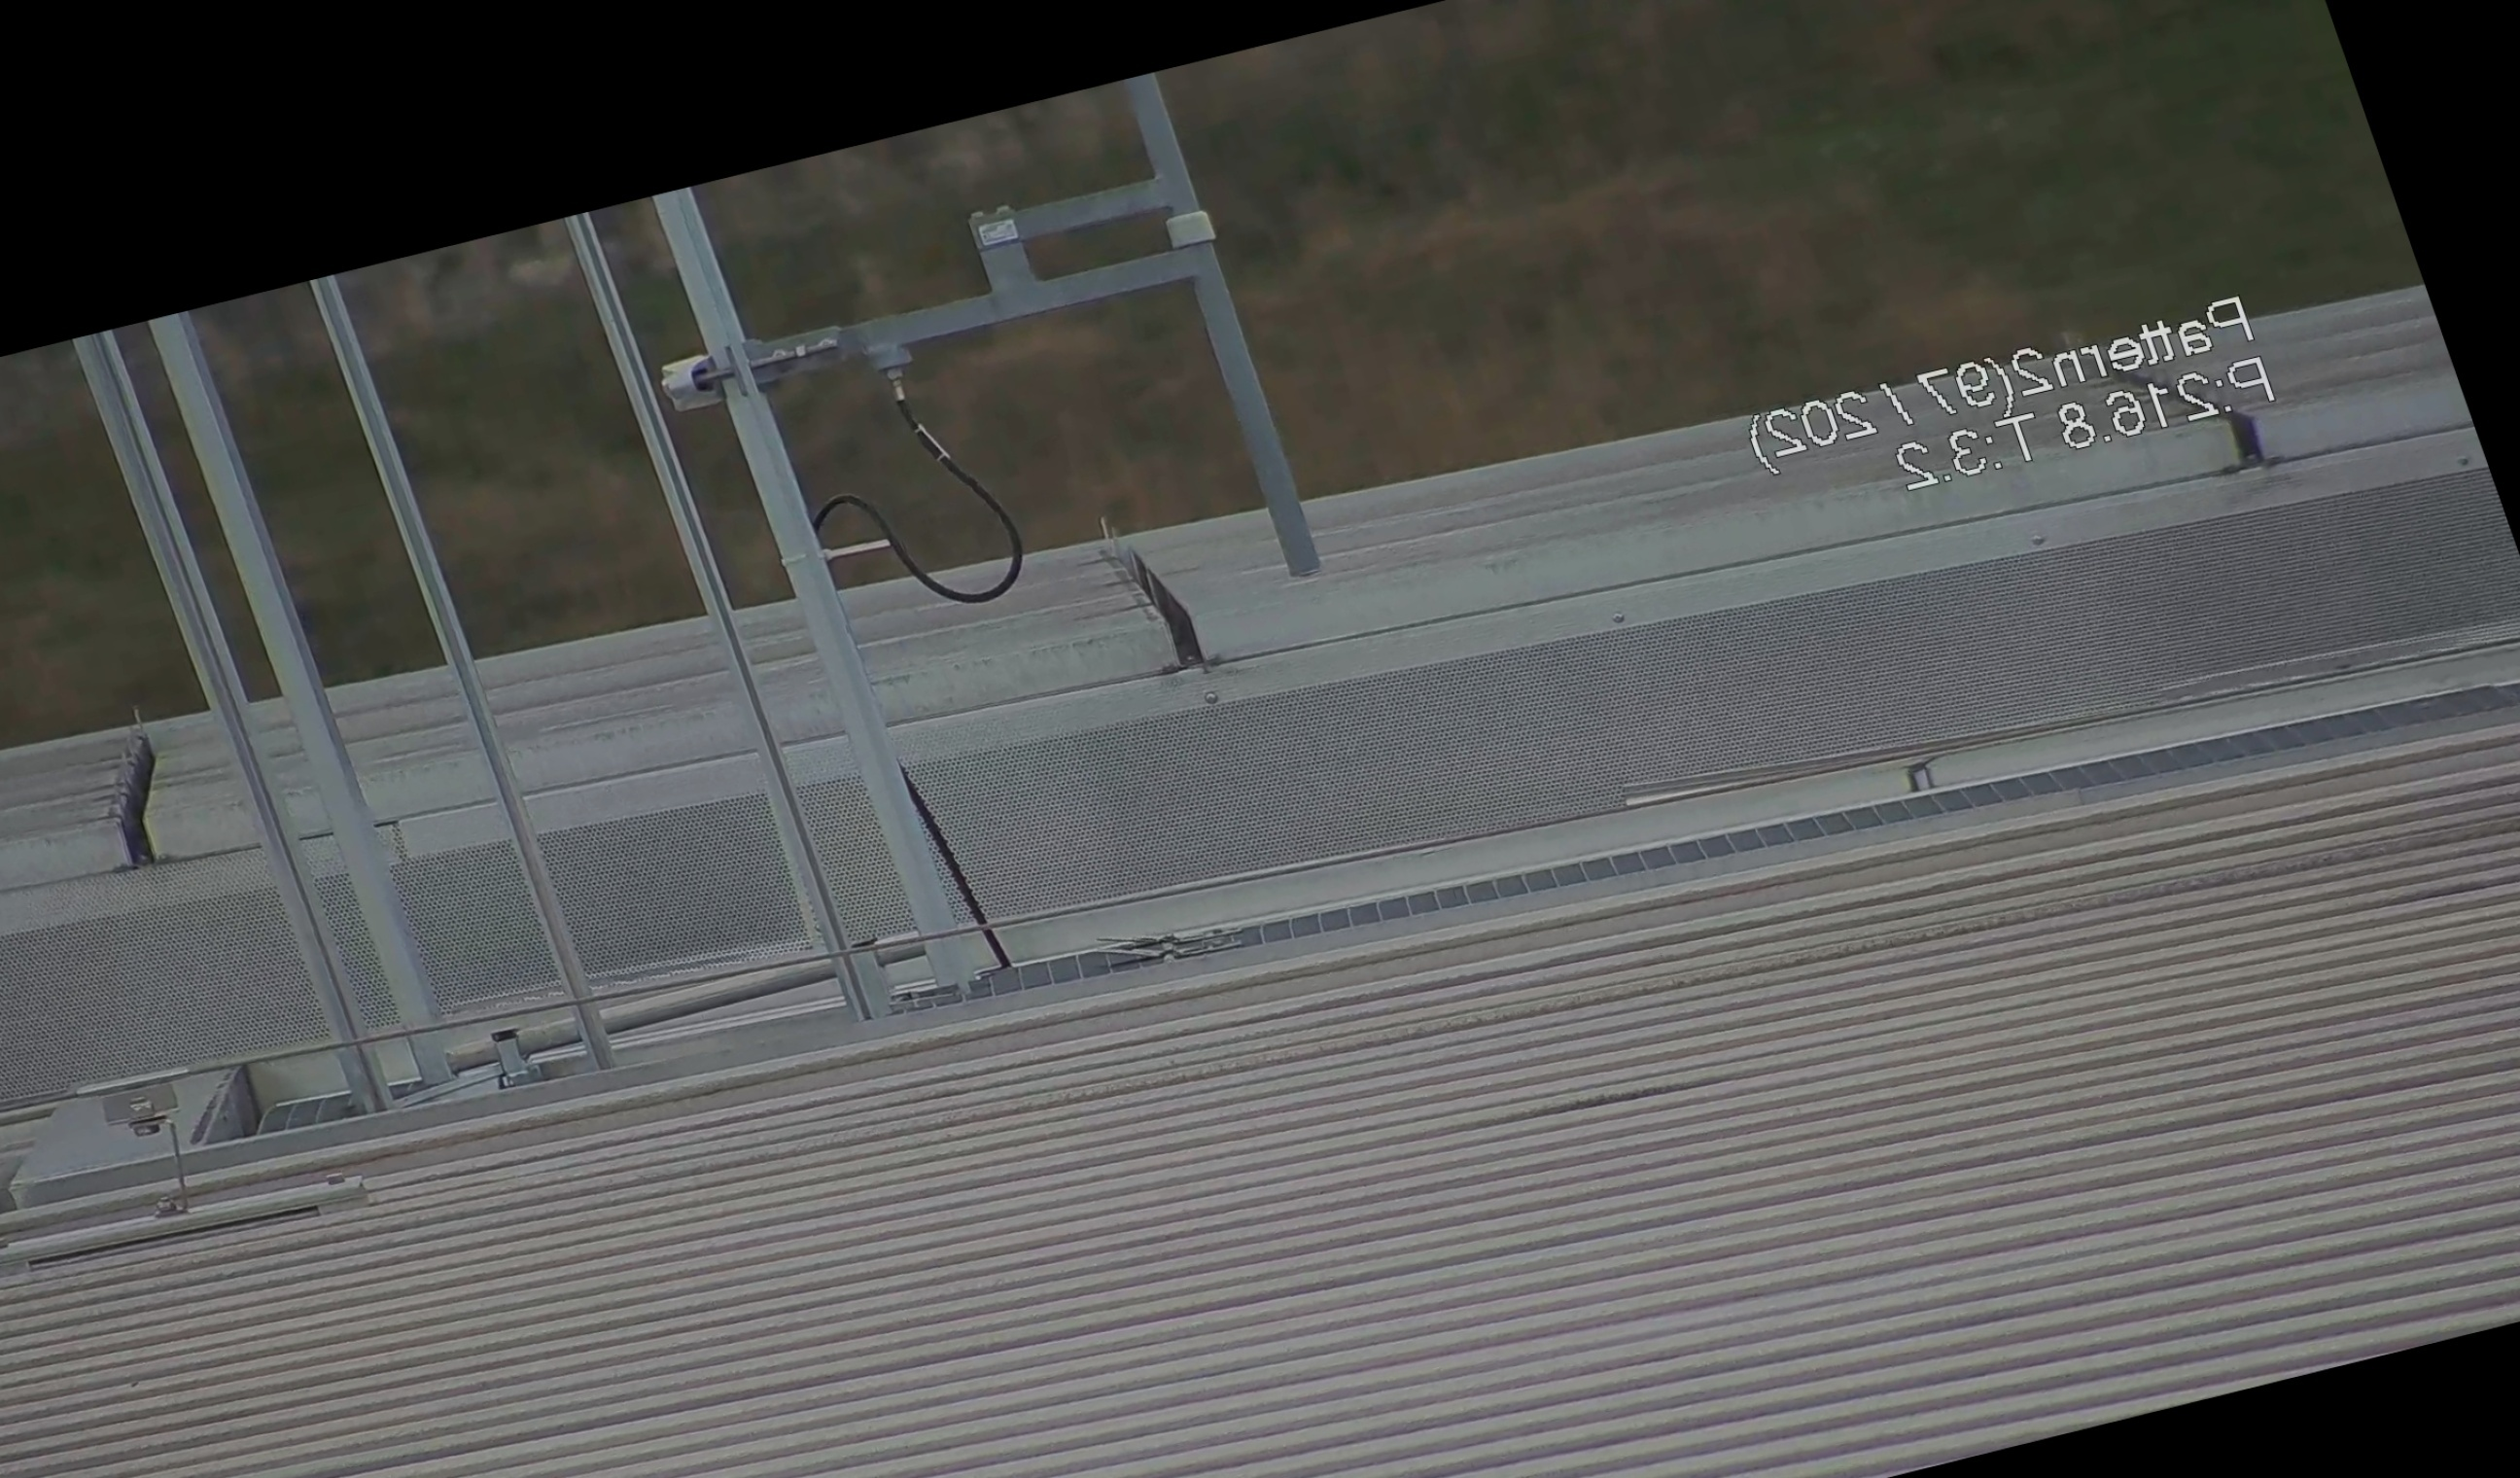Other: (51, 691, 197, 880)
